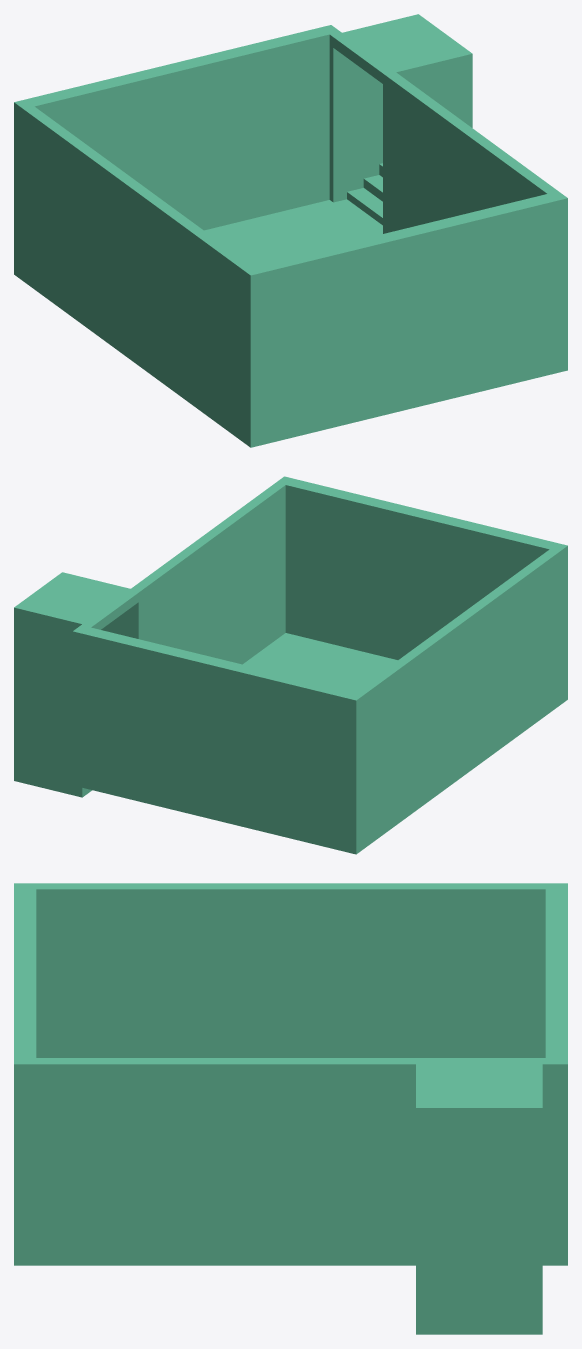
File: BasementFloor.fbx
The picture shows the model from 3 angles, top to bottom: view 1: azimuth 30°, elevation 25°; view 2: azimuth 150°, elevation 25°; view 3: azimuth 270°, elevation 25°; orthographic projection. The views are drawn at different scales.
Parts seen in each view (by area): view 1: Box007; view 2: Box007; view 3: Box007.
Boxes of the visible parts, left/top/right/bottom form: Box007: left=14, top=14, right=567, bottom=447; Box007: left=14, top=476, right=567, bottom=854; Box007: left=14, top=883, right=567, bottom=1334.
Size of the model in its own units: 598 by 281 by 622.
